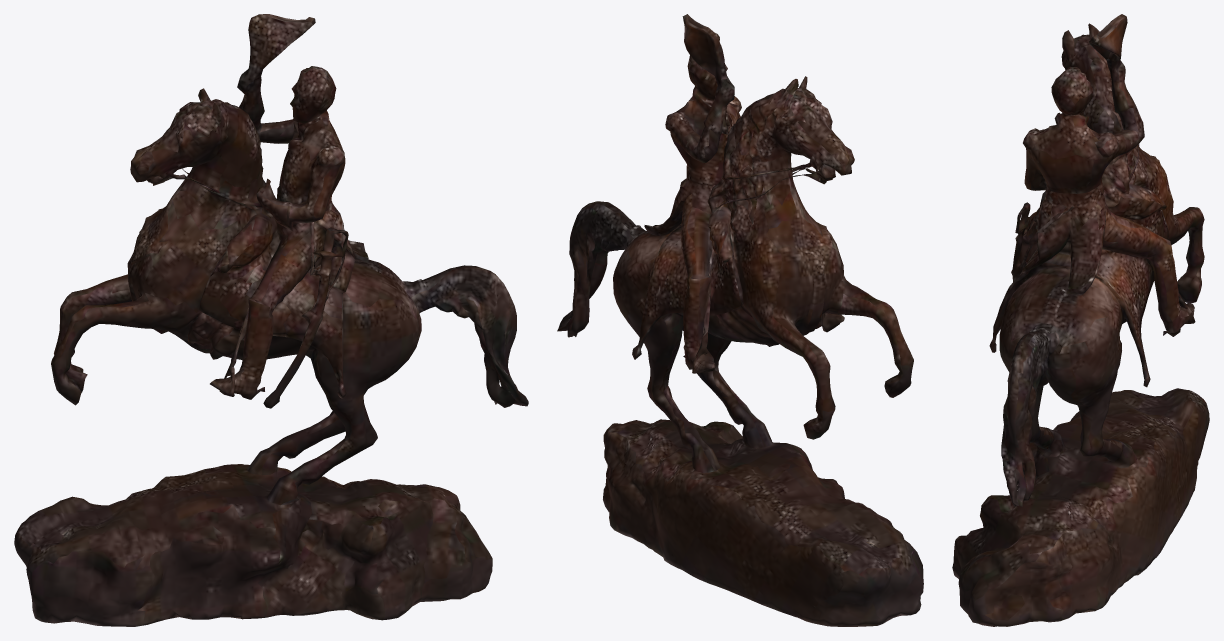
The picture shows the model from 3 angles, left to right: view 1: azimuth 30°, elevation 25°; view 2: azimuth 150°, elevation 25°; view 3: azimuth 270°, elevation 25°; orthographic projection. The views are drawn at different scales.
Size of the model in its own units: 502 by 613 by 264.
1 material, 1 textured.
